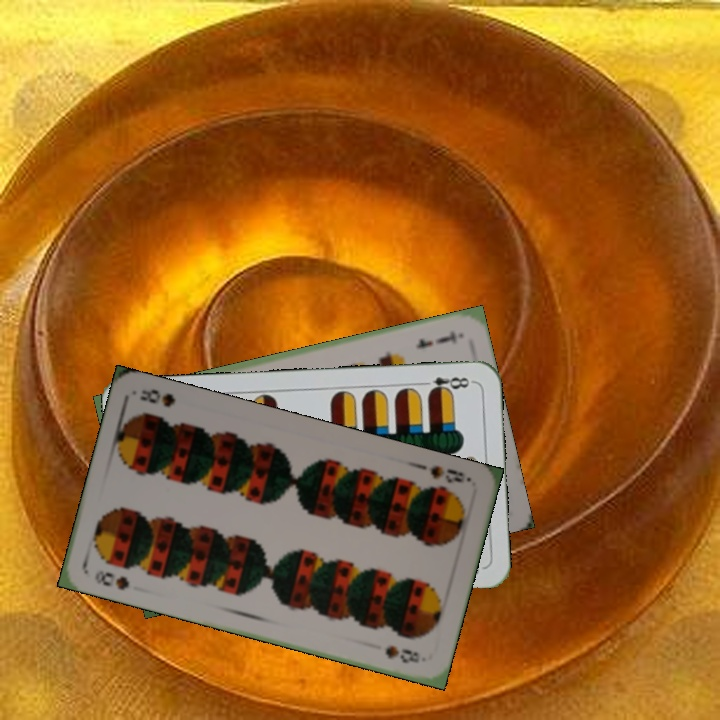E7: (412, 326, 459, 351)
E8: (416, 373, 475, 397)
S8: (426, 461, 474, 486), (90, 566, 132, 593)
